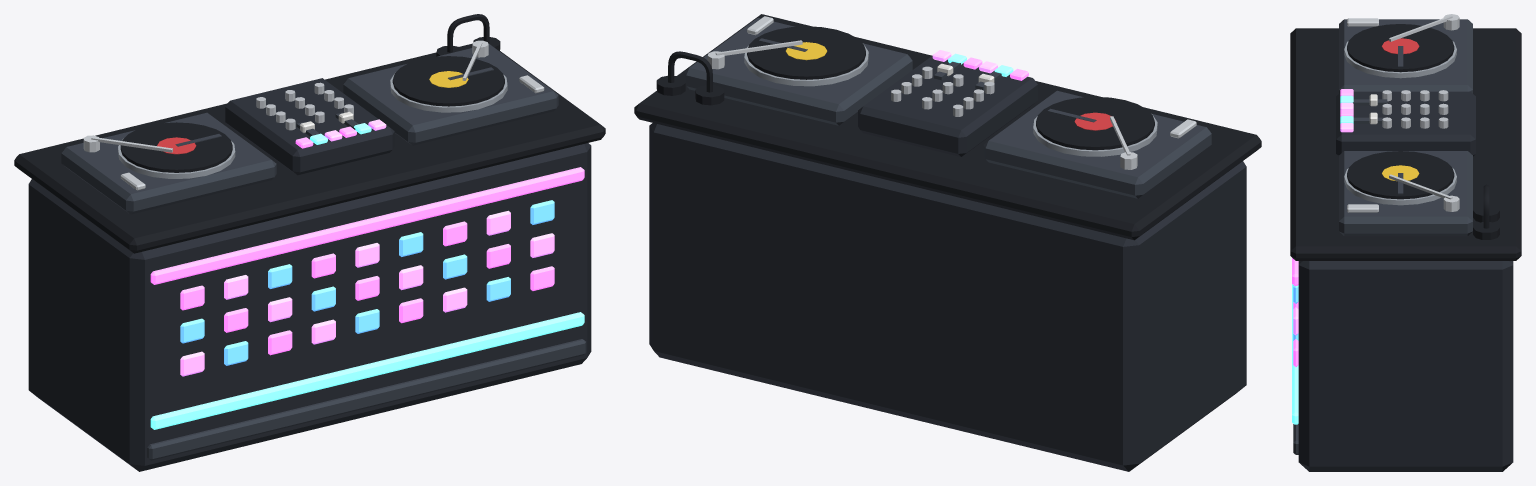
File: mesa_dj.glb
3 renders of one model, left to right at view 1: azimuth 30°, elevation 25°; view 2: azimuth 150°, elevation 25°; view 3: azimuth 270°, elevation 25°, orthographic. The views are drawn at different scales.
Parts seen in each view (by area): view 1: mesa_dj, leds_a, leds_b, disco_2, disco_1; view 2: mesa_dj, disco_1, disco_2; view 3: mesa_dj, disco_1, disco_2, botoes_a, botoes_b, leds_a.
Boxes of the visible parts, box(x1,y1,x2,y2) form: mesa_dj: box(14, 14, 605, 471); leds_a: box(180, 200, 554, 376); leds_b: box(180, 210, 554, 365); disco_2: box(392, 56, 504, 106); disco_1: box(120, 122, 232, 172); mesa_dj: box(634, 14, 1261, 471); disco_1: box(1036, 96, 1154, 150); disco_2: box(747, 26, 865, 79); mesa_dj: box(1290, 14, 1521, 471); disco_1: box(1347, 24, 1454, 72); disco_2: box(1347, 151, 1454, 199); botoes_a: box(1340, 95, 1353, 132); botoes_b: box(1340, 89, 1353, 123); leds_a: box(1293, 285, 1298, 366).
Bounding box in the file's own units: 1.96 × 1.12 × 0.86.
Materials: 5 (1 with a texture image).
